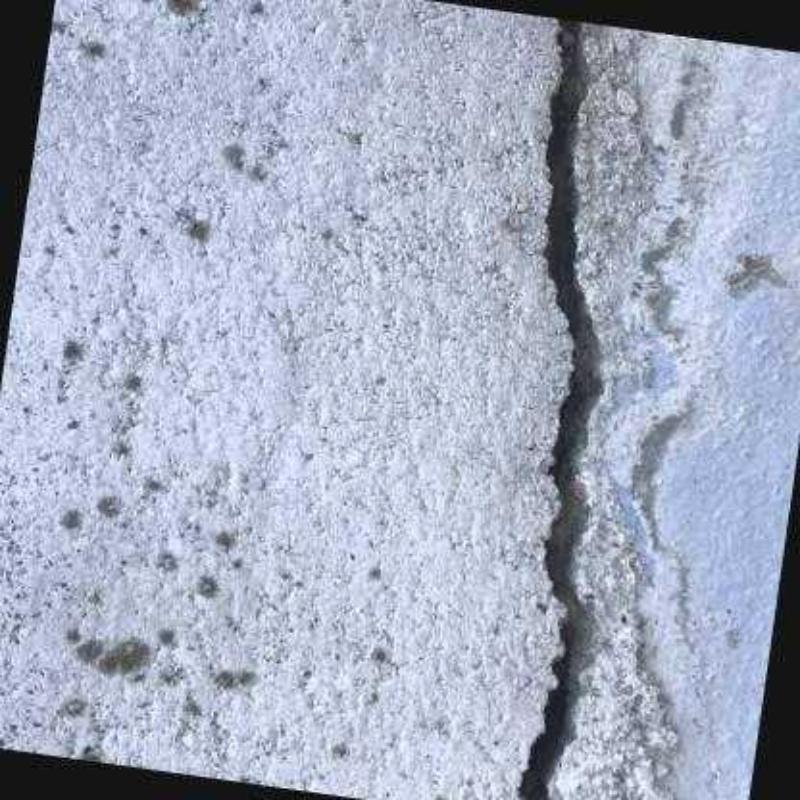pothole: (519, 19, 605, 800)
